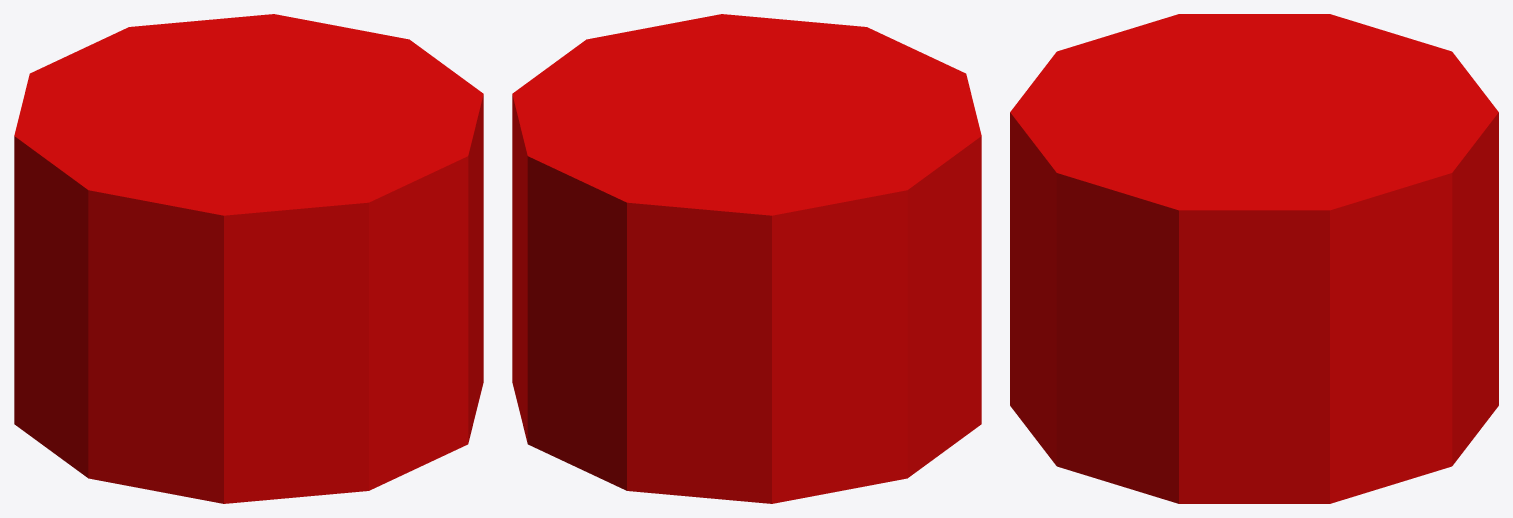
Rendered from c_drum.fbx.
The picture shows the model from 3 angles, left to right: view 1: azimuth 30°, elevation 25°; view 2: azimuth 150°, elevation 25°; view 3: azimuth 270°, elevation 25°; orthographic projection.
Visible parts, largest first — view 1: coll_drum; view 2: coll_drum; view 3: coll_drum.
Boxes of the visible parts, x1,y1,x2,y2 form: coll_drum: [14, 14, 483, 503]; coll_drum: [512, 14, 981, 503]; coll_drum: [1010, 14, 1498, 503].
Bounding box in the file's own units: 157 × 109 × 165.
